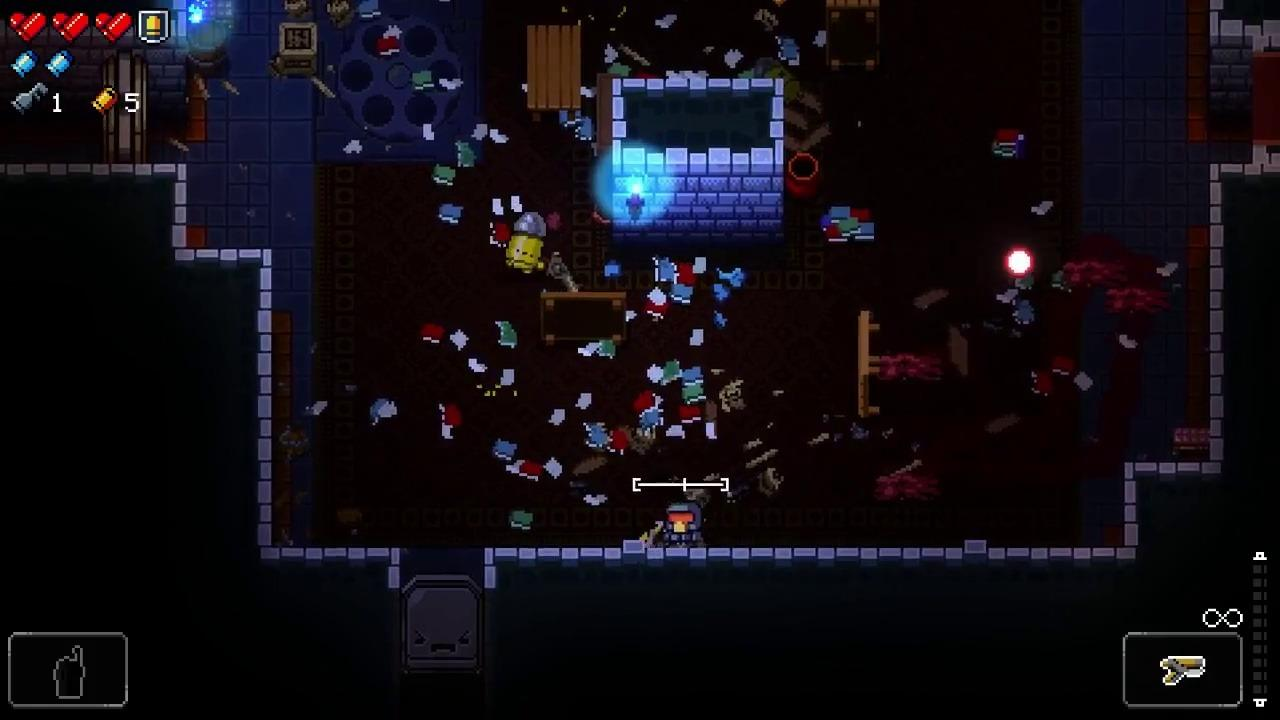bullet: (1005, 247, 1034, 279)
bullet_kin: (503, 211, 549, 276)
locked_door: (401, 575, 484, 677), (103, 51, 146, 163)
player: (666, 502, 703, 548)
table: (528, 25, 580, 123), (539, 292, 627, 345), (824, 0, 879, 72), (858, 310, 887, 417)
teleporter: (310, 0, 483, 165)
wall: (612, 77, 785, 249)
